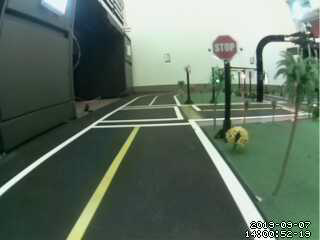Stop_Sign: (208, 32, 242, 64)
